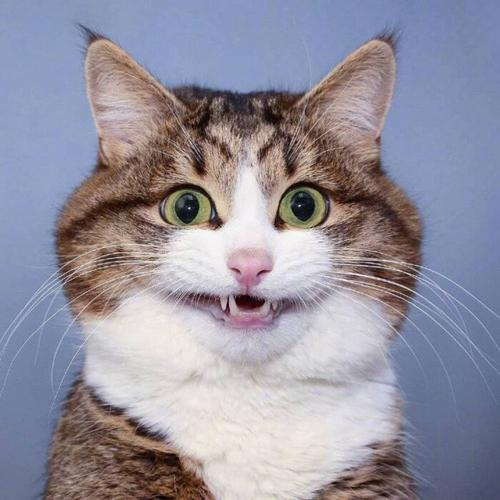cat: (66, 17, 426, 387)
